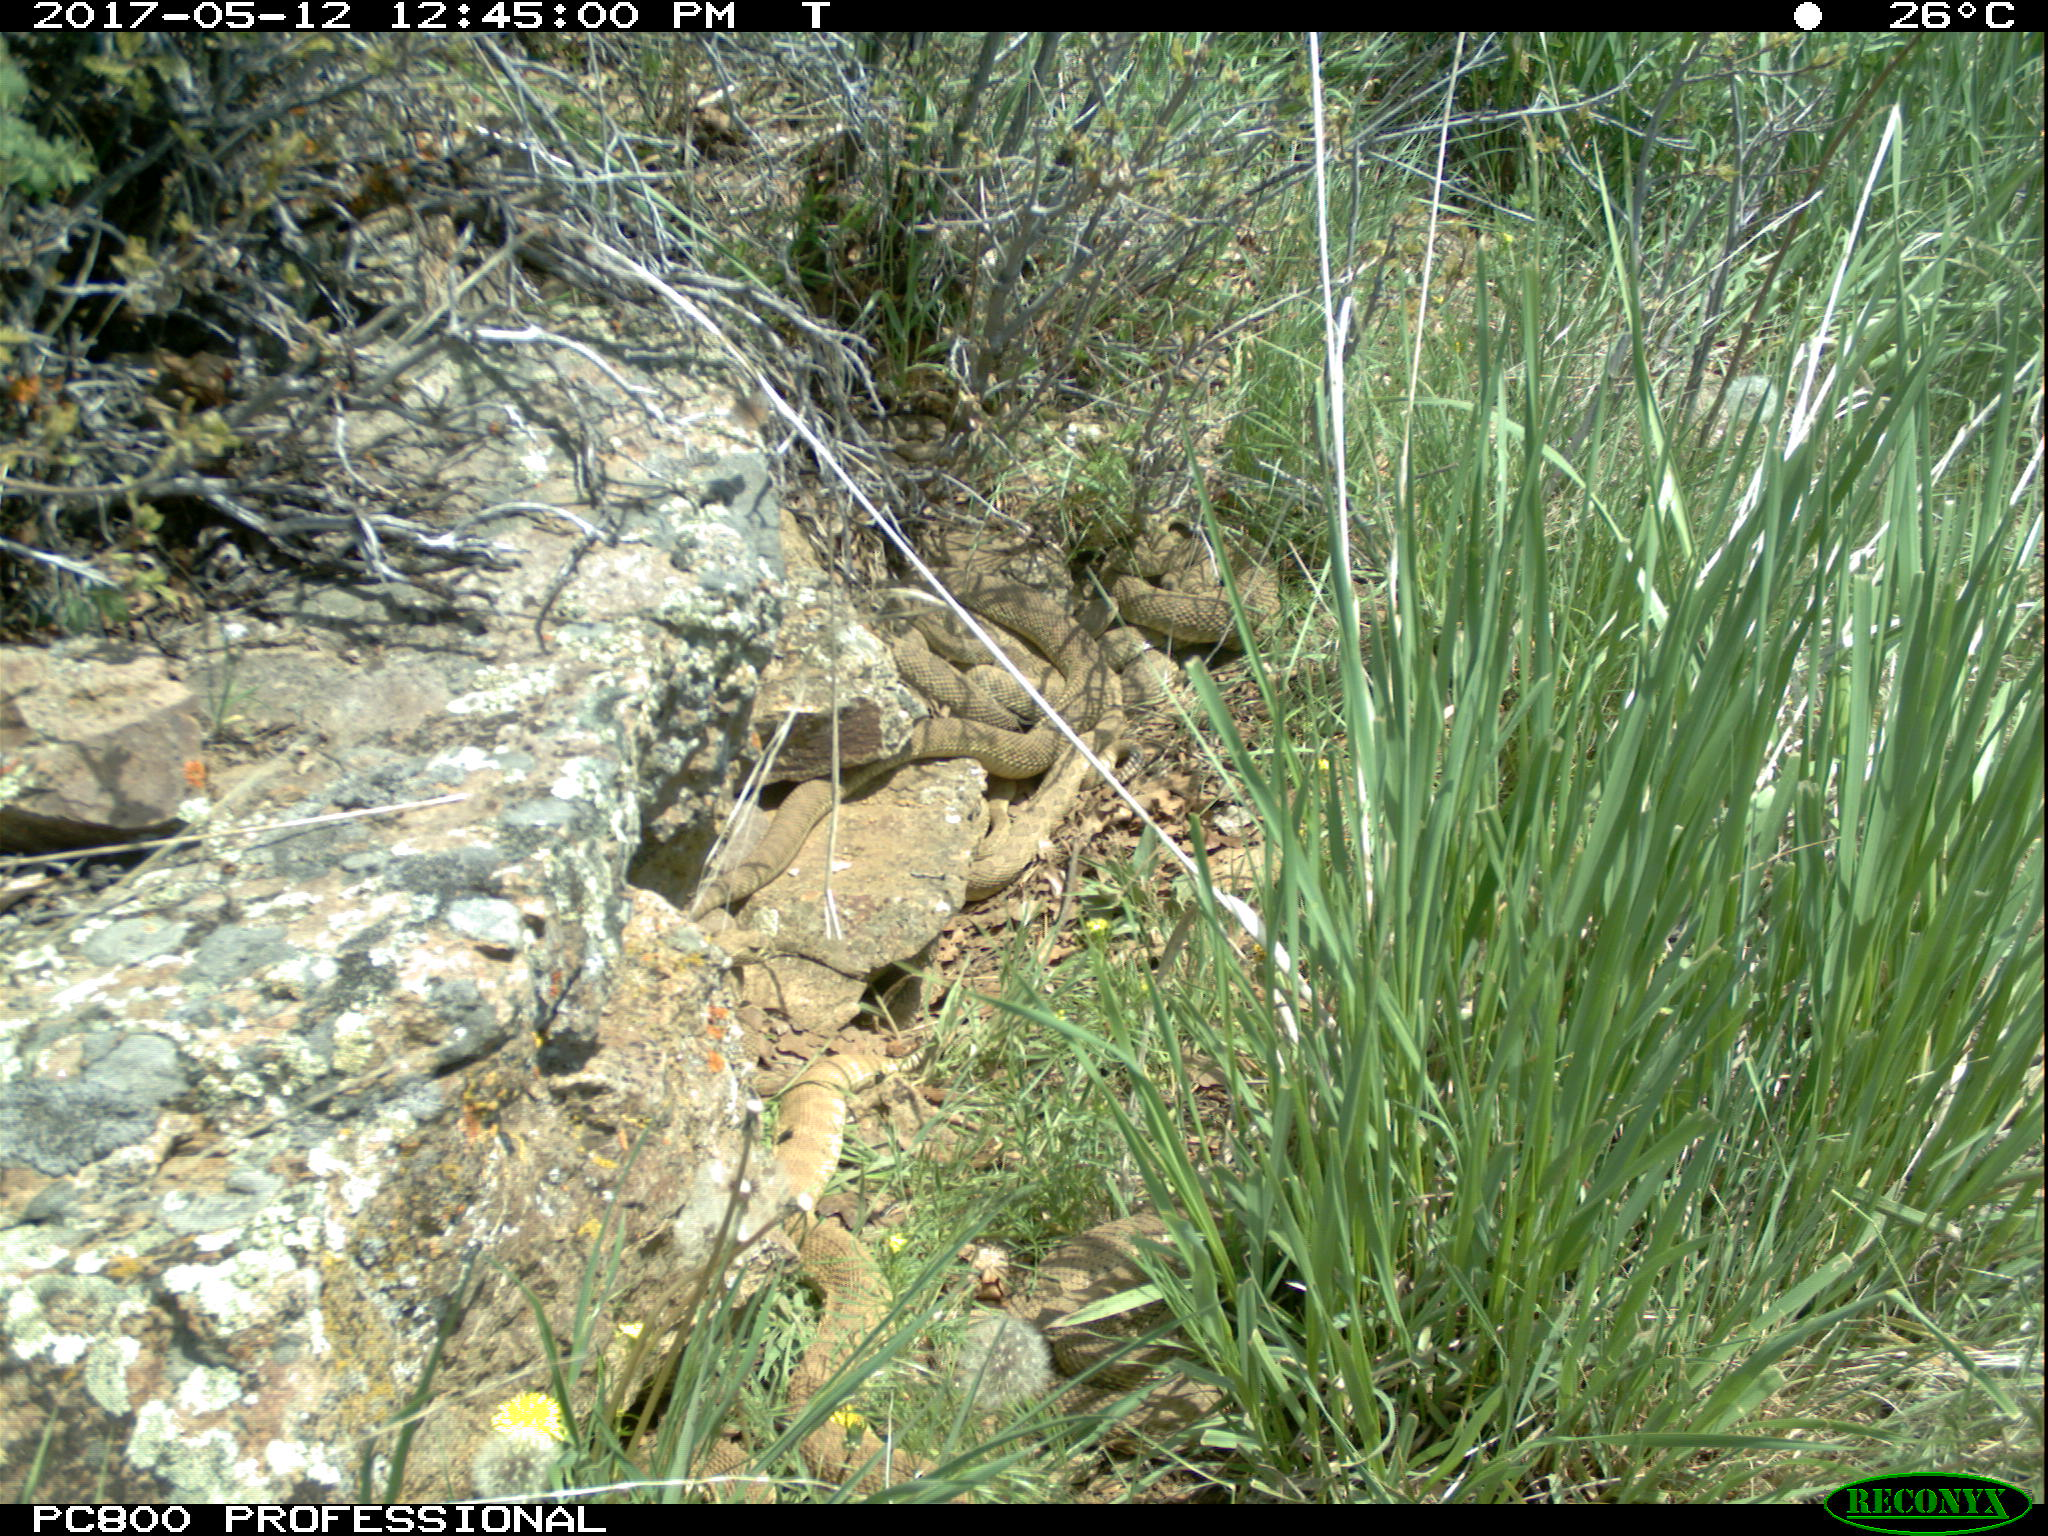snake: (763, 1050, 911, 1489), (1024, 1205, 1247, 1447), (887, 574, 1121, 776), (1097, 526, 1292, 650), (682, 778, 839, 918), (977, 724, 1087, 907), (632, 1431, 772, 1502), (871, 416, 964, 458)
